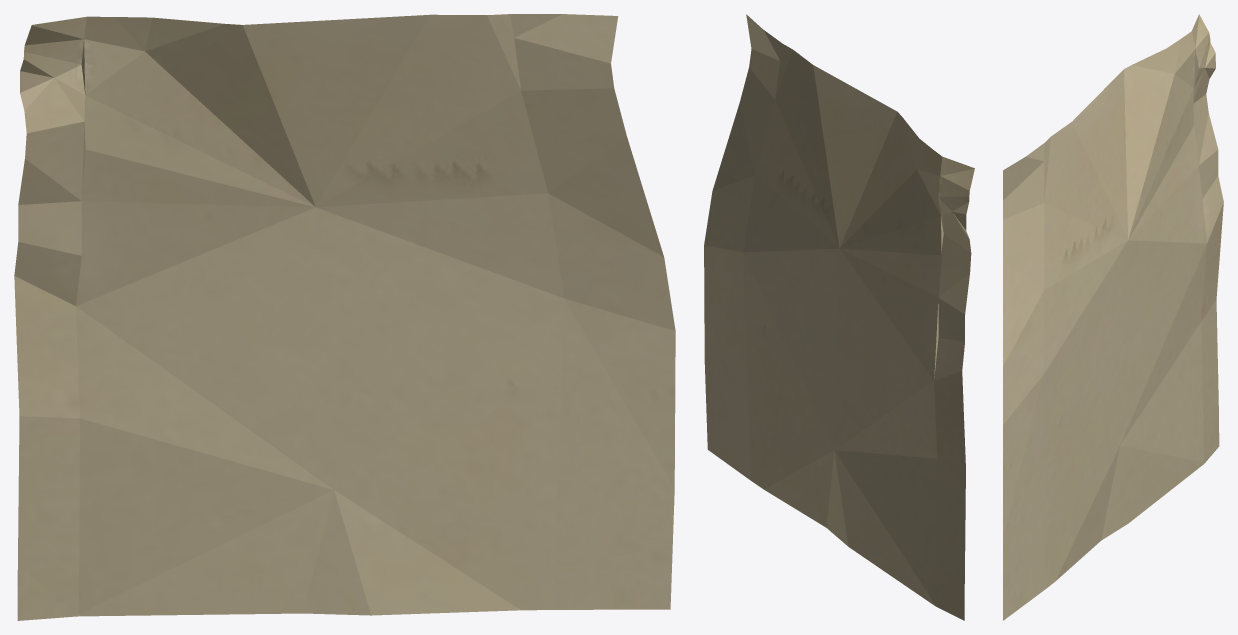
3 renders of one model, left to right at view 1: azimuth 30°, elevation 25°; view 2: azimuth 150°, elevation 25°; view 3: azimuth 270°, elevation 25°, orthographic. The views are drawn at different scales.
Size of the model in its own units: 0.7321 by 0.8374 by 0.3874.
2 materials, 2 textured.
